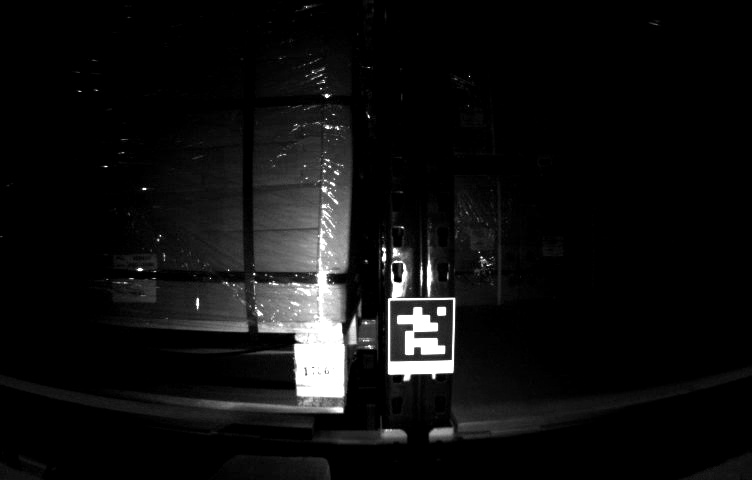True Barcode: (114, 252, 156, 304)
